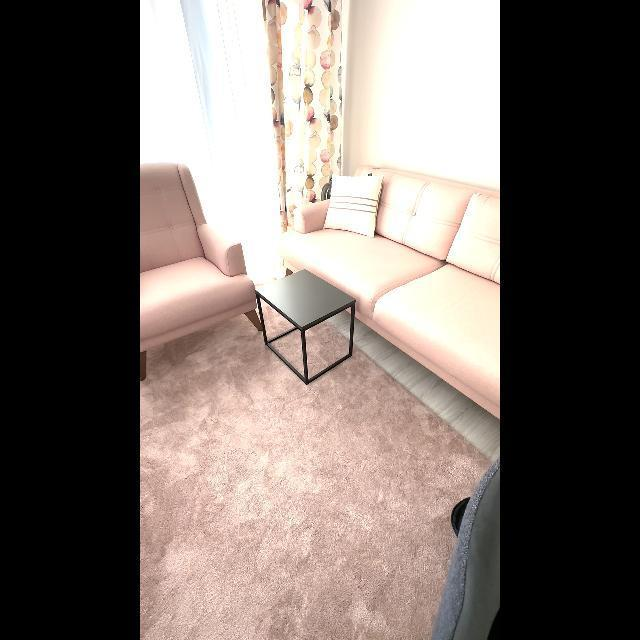coffee table: (240, 262, 360, 388)
